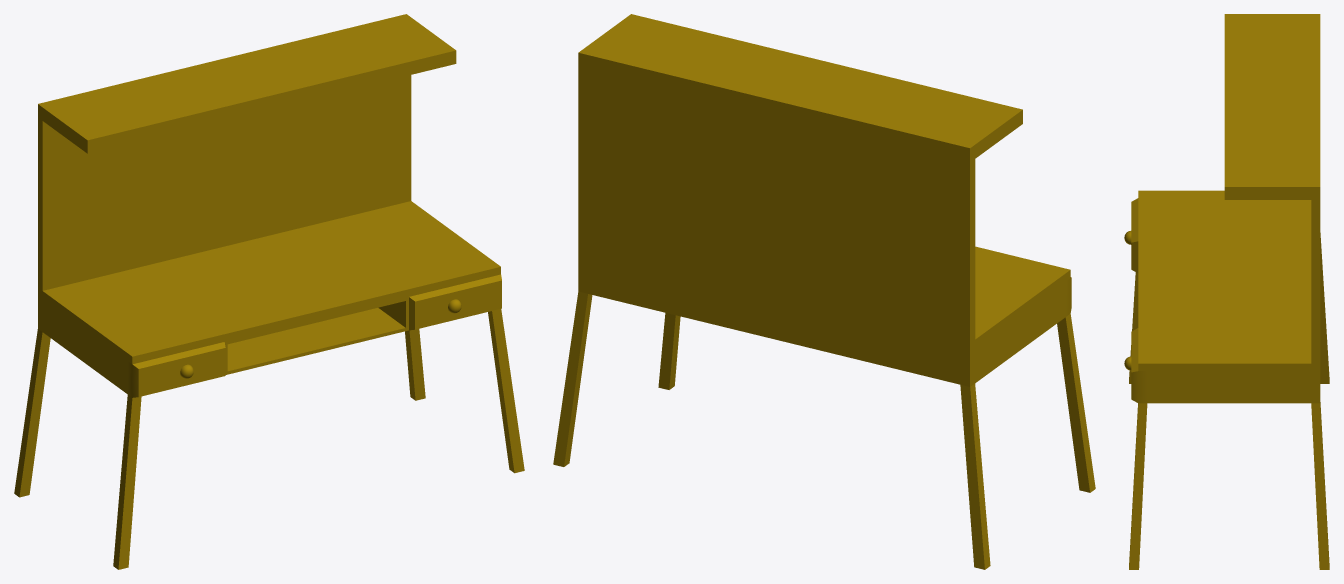
File: Desk.fbx
3 renders of one model, left to right at view 1: azimuth 30°, elevation 25°; view 2: azimuth 150°, elevation 25°; view 3: azimuth 270°, elevation 25°, orthographic. The views are drawn at different scales.
Parts seen in each view (by area): view 1: pCube4; view 2: pCube4; view 3: pCube4.
Part boxes in pixels (x1=…): pCube4: x1=14, y1=14, x2=524, y2=569; pCube4: x1=553, y1=14, x2=1095, y2=569; pCube4: x1=1124, y1=14, x2=1329, y2=569.
Bounding box in the file's own units: 156 × 143 × 71.08.
